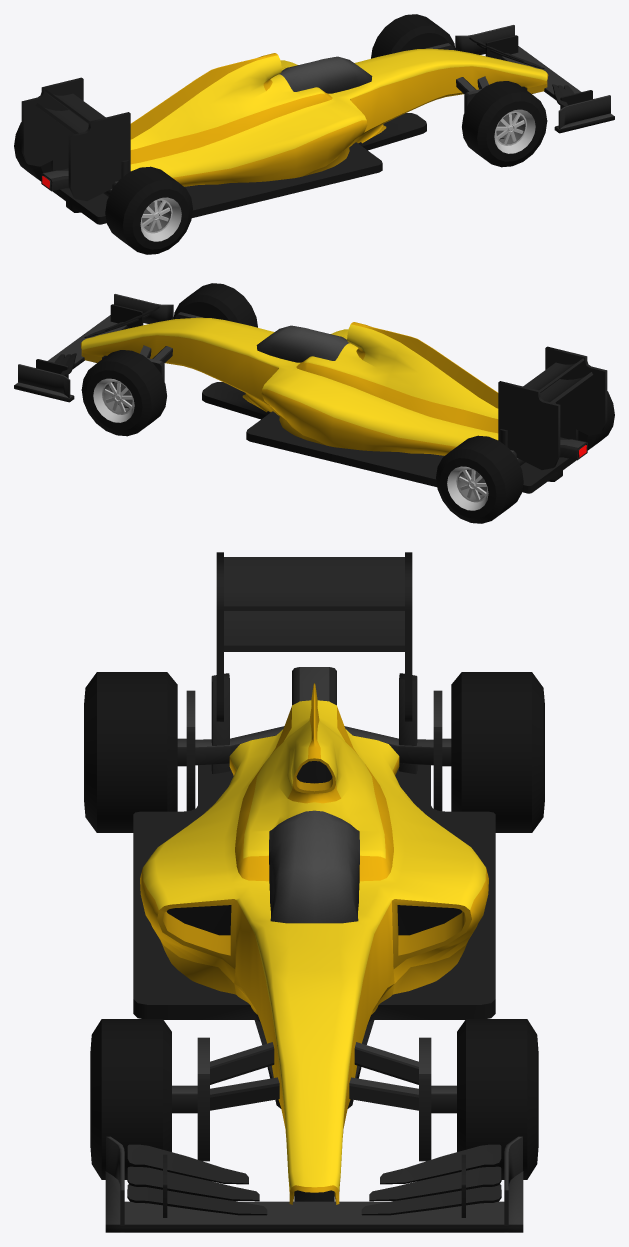
File: RaceCar_016.glb
The picture shows the model from 3 angles, top to bottom: view 1: azimuth 30°, elevation 25°; view 2: azimuth 150°, elevation 25°; view 3: azimuth 270°, elevation 25°; orthographic projection. The views are drawn at different scales.
Visible parts, largest first — view 1: RaceCar_016, wheel_3_RaceCar_016_Wheel_2R, wheel_1_RaceCar_016_Wheel_1R, wheel_0_RaceCar_016_Wheel_1L, wheel_2_RaceCar_016_Wheel_2L; view 2: RaceCar_016, wheel_2_RaceCar_016_Wheel_2L, wheel_0_RaceCar_016_Wheel_1L, wheel_1_RaceCar_016_Wheel_1R, wheel_3_RaceCar_016_Wheel_2R; view 3: RaceCar_016, wheel_2_RaceCar_016_Wheel_2L, wheel_3_RaceCar_016_Wheel_2R, wheel_0_RaceCar_016_Wheel_1L, wheel_1_RaceCar_016_Wheel_1R.
Boxes of the visible parts, box(x1,y1,x2,y2) form: RaceCar_016: box(21, 25, 614, 224); wheel_3_RaceCar_016_Wheel_2R: box(105, 160, 192, 254); wheel_1_RaceCar_016_Wheel_1R: box(462, 81, 547, 167); wheel_0_RaceCar_016_Wheel_1L: box(371, 14, 455, 58); wheel_2_RaceCar_016_Wheel_2L: box(14, 122, 73, 181); RaceCar_016: box(14, 294, 607, 493); wheel_2_RaceCar_016_Wheel_2L: box(436, 429, 523, 523); wheel_0_RaceCar_016_Wheel_1L: box(81, 350, 166, 436); wheel_1_RaceCar_016_Wheel_1R: box(173, 283, 257, 327); wheel_3_RaceCar_016_Wheel_2R: box(555, 391, 614, 450); RaceCar_016: box(105, 552, 523, 1232); wheel_2_RaceCar_016_Wheel_2L: box(399, 672, 544, 832); wheel_3_RaceCar_016_Wheel_2R: box(84, 672, 229, 832); wheel_0_RaceCar_016_Wheel_1L: box(419, 1019, 538, 1179); wheel_1_RaceCar_016_Wheel_1R: box(90, 1019, 209, 1179).
Size of the model in its own units: 6 by 1.32 by 2.32.
2 materials, 2 textured.
